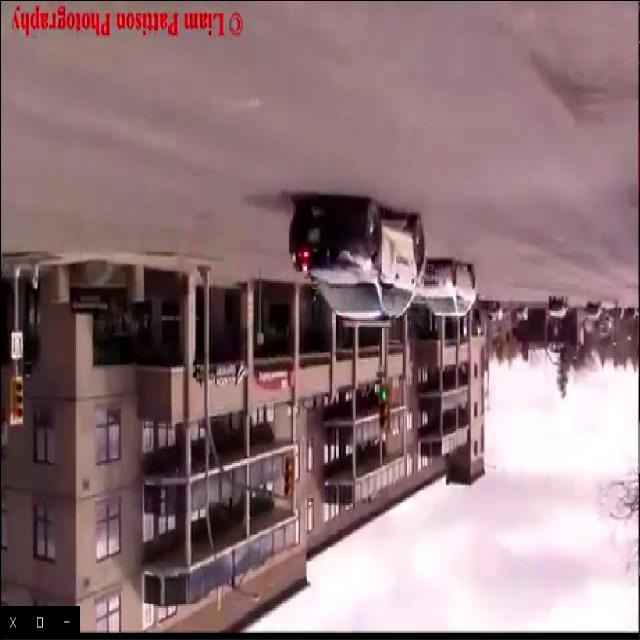emergency: (286, 190, 422, 334)
